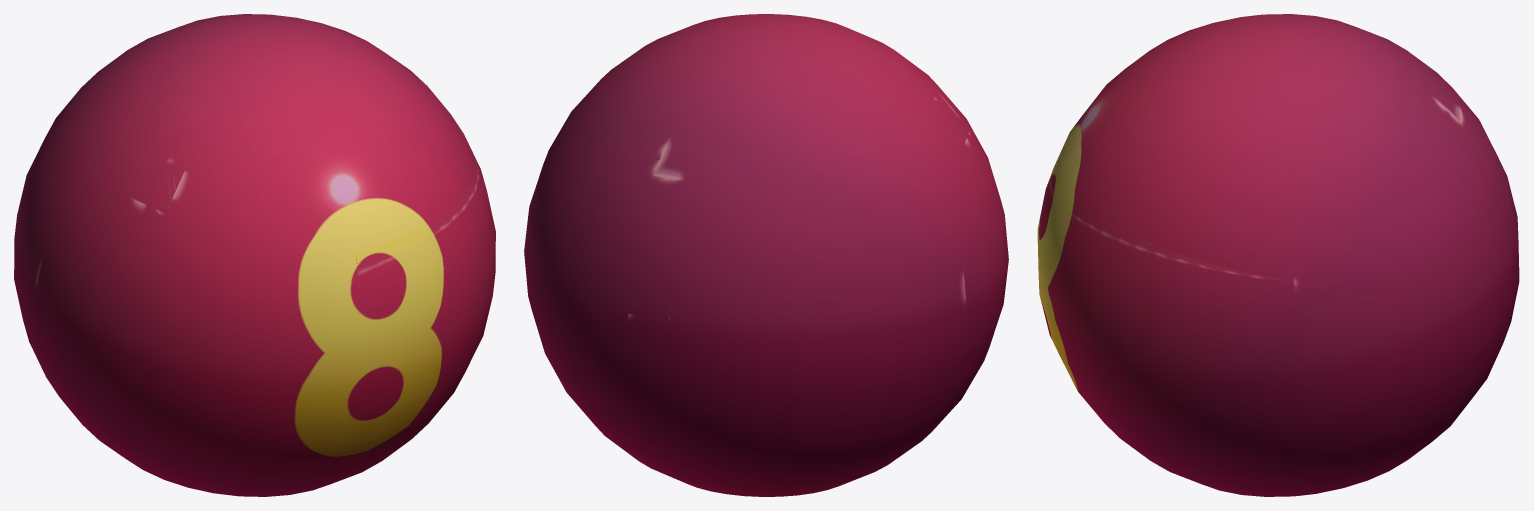
Rendered from Enemy 8.fbx.
3 renders of one model, left to right at view 1: azimuth 30°, elevation 25°; view 2: azimuth 150°, elevation 25°; view 3: azimuth 270°, elevation 25°, orthographic.
Visible parts, largest first — view 1: Body 1.007; view 2: Body 1.007; view 3: Body 1.007.
Part boxes in pixels (x1,y1,x2,y2): Body 1.007: (14,14,495,496); Body 1.007: (524,14,1008,496); Body 1.007: (1037,14,1519,496).
Size of the model in its own units: 472 by 474 by 472.
Materials: 1 (1 with a texture image).
